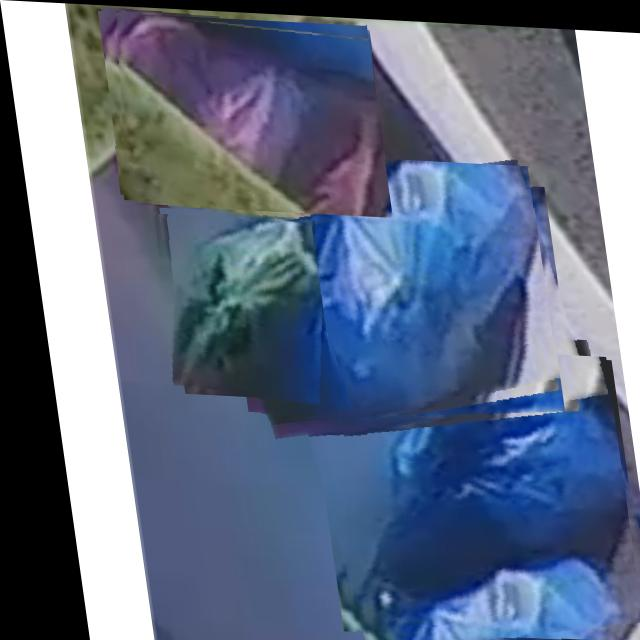general_trashbag: (163, 217, 312, 384)
other_trashbag: (340, 346, 613, 640), (247, 157, 531, 416), (116, 12, 378, 212)
